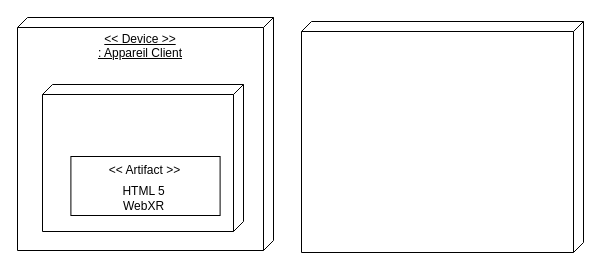
This 601x270 diagram has some shape labels left out. Each missing label, with the box of its shape:
<< Device >> : Navigateur: (42, 84, 244, 232)
<< Device >> : Serveur Web: (300, 20, 584, 252)
